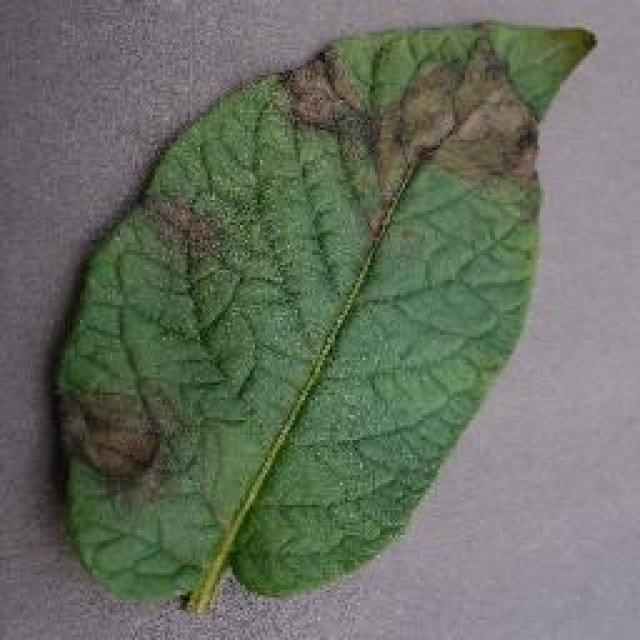late_blight: (48, 15, 600, 613)
